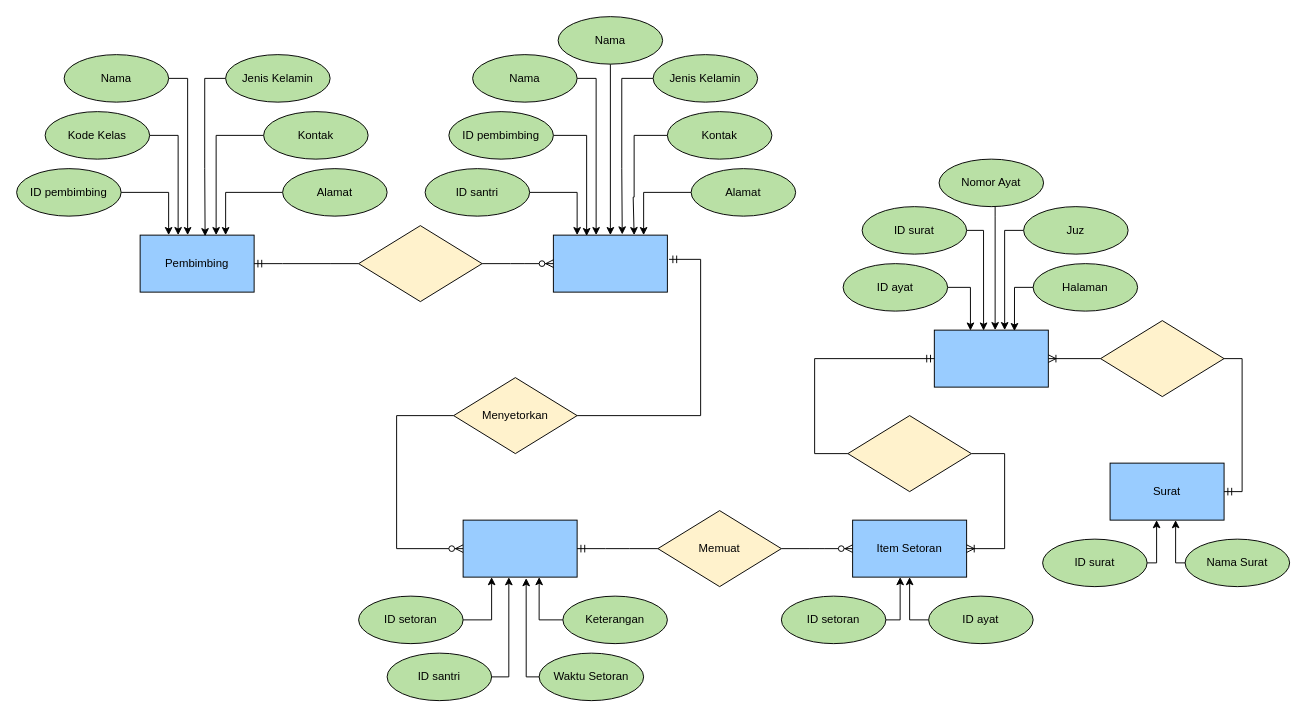
The diagram is 1306 pixels wide and 717 high, and some of its shapes have lost their labels. Each missing label, with the box of its shape:
Ayat: (933, 329, 1048, 387)
Berada pada: (1100, 320, 1224, 397)
Berisi: (847, 415, 971, 492)
Menerima Setoran: (358, 225, 482, 302)
Santri: (552, 234, 667, 292)
Setoran: (462, 519, 577, 577)
